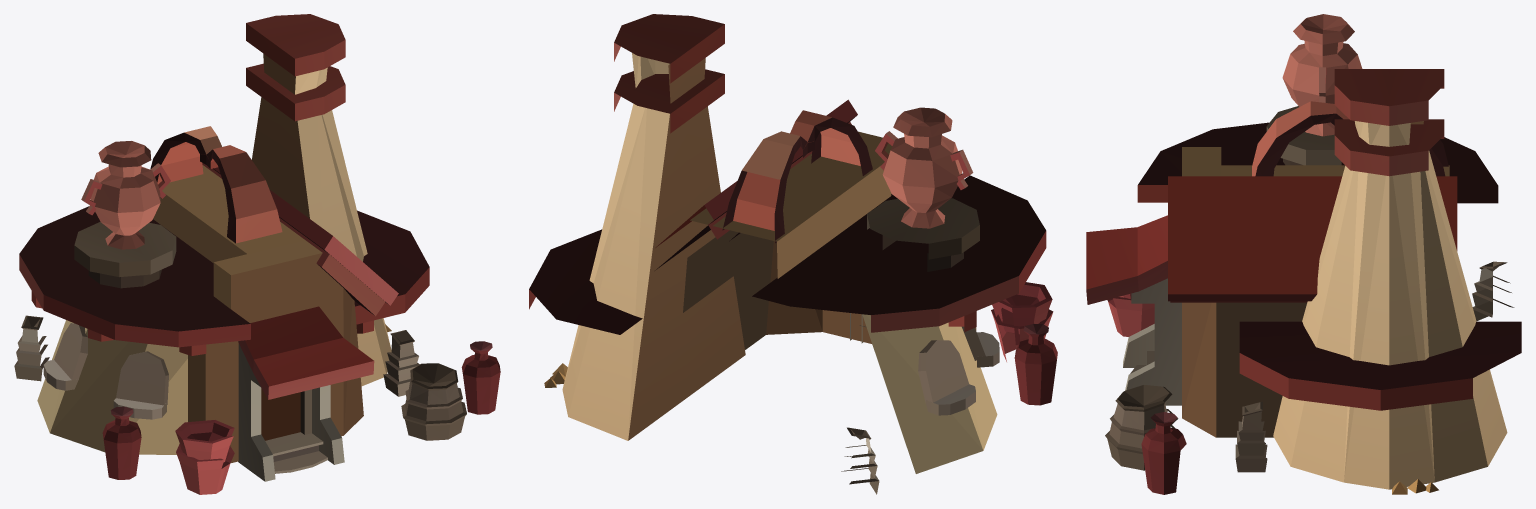
The model's file is building22.fbx.
3 renders of one model, left to right at view 1: azimuth 30°, elevation 25°; view 2: azimuth 150°, elevation 25°; view 3: azimuth 270°, elevation 25°, orthographic. The views are drawn at different scales.
Parts seen in each view (by area): view 1: building22; view 2: building22; view 3: building22.
Boxes of the visible parts, bbox=[...] form: building22: bbox=[14, 14, 500, 494]; building22: bbox=[529, 14, 1057, 494]; building22: bbox=[1086, 14, 1521, 494].
Bounding box in the file's own units: 2.94 × 2.31 × 2.52.
1 material, 1 textured.
